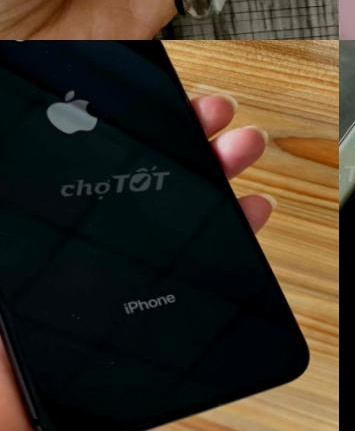scratch: (37, 295, 94, 336), (91, 109, 126, 132), (98, 346, 124, 374), (13, 394, 43, 418), (77, 214, 108, 237), (33, 40, 62, 61), (61, 57, 83, 69)
